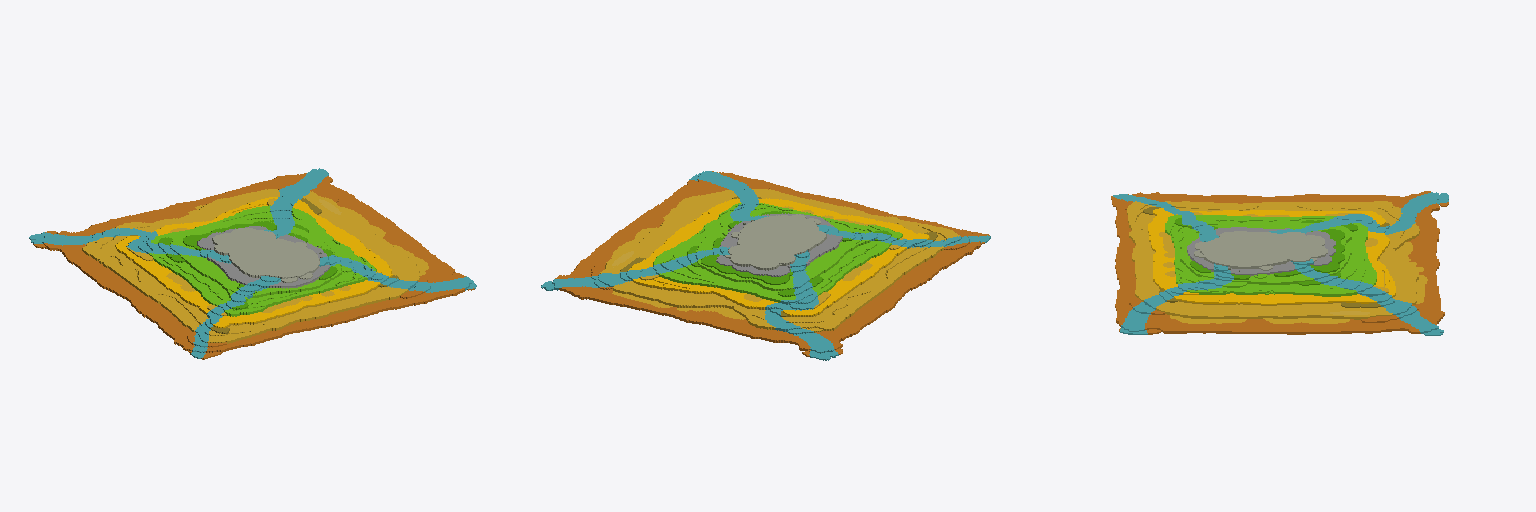
3 renders of one model, left to right at view 1: azimuth 30°, elevation 25°; view 2: azimuth 150°, elevation 25°; view 3: azimuth 270°, elevation 25°, orthographic.
Parts seen in each view (by area): view 1: object 1; view 2: object 1; view 3: object 1.
Part boxes in pixels (bbox=[...]): object 1: bbox=[29, 168, 476, 359]; object 1: bbox=[541, 171, 990, 360]; object 1: bbox=[1111, 191, 1448, 335].
Bounding box in the file's own units: 25.4 × 1.4 × 25.3.
Materials: 1 (1 with a texture image).